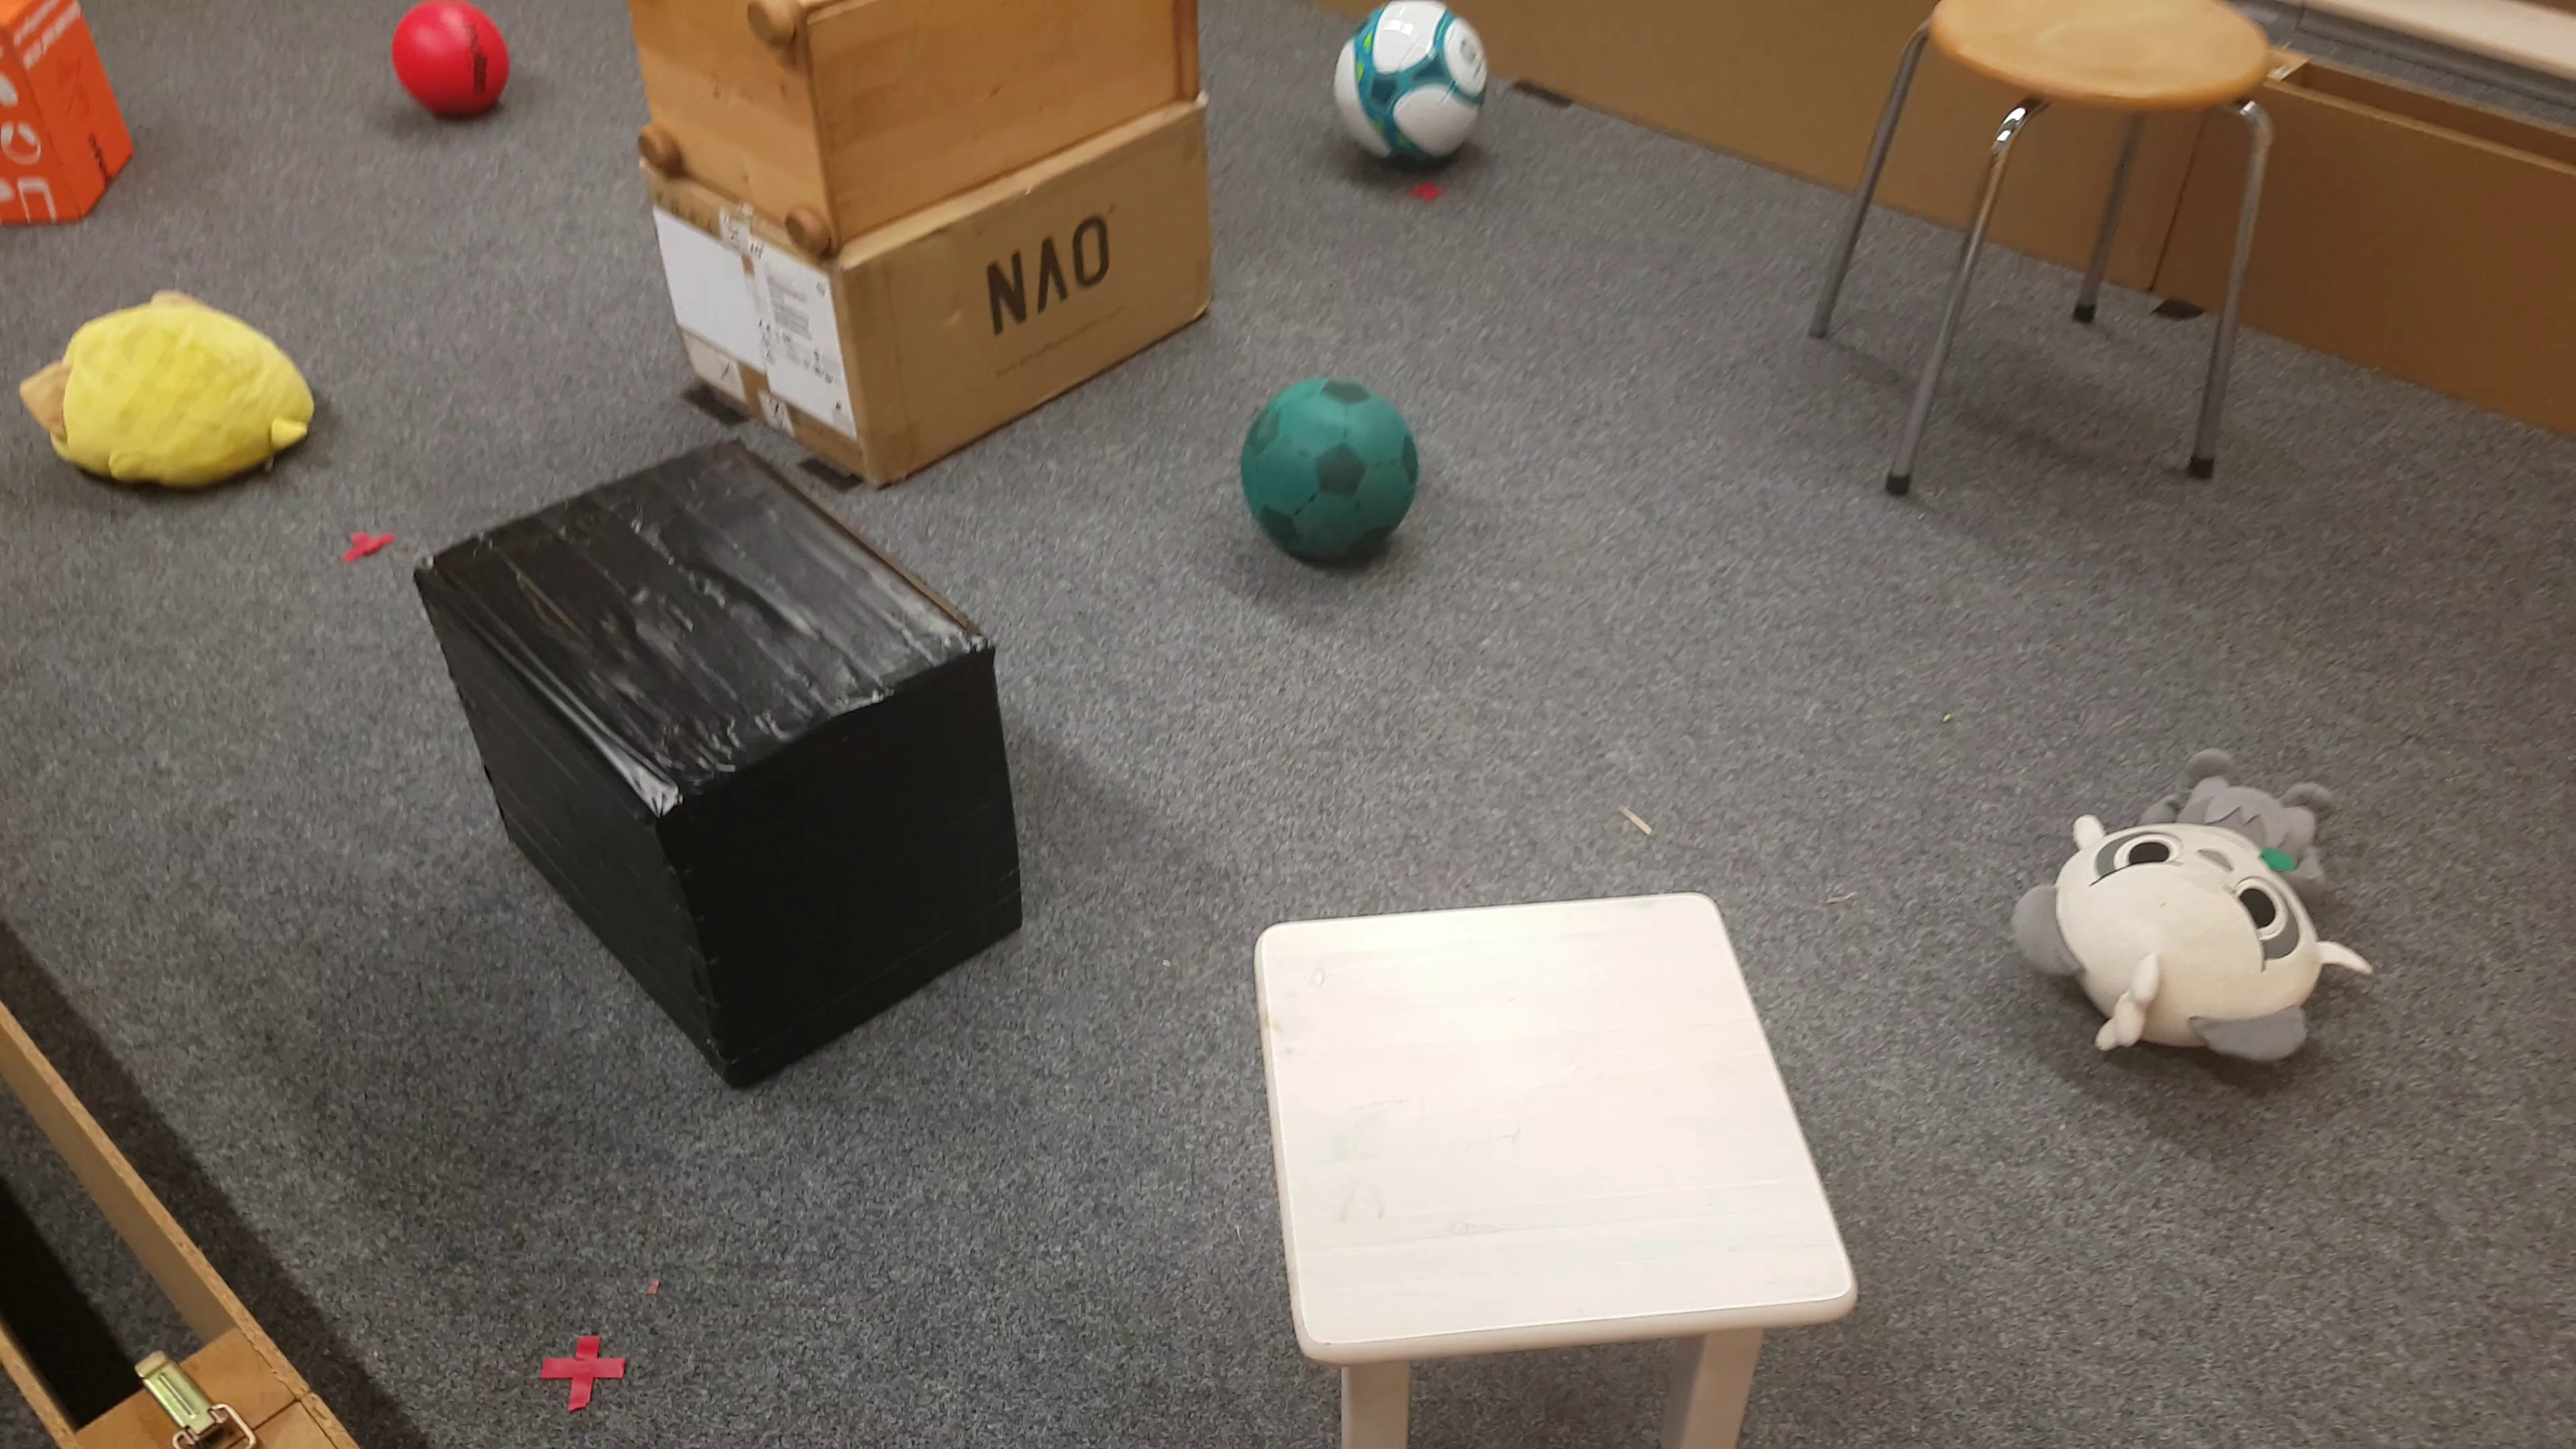grasp: (1978, 747, 2373, 1099), (11, 278, 320, 502)
kick: (1246, 366, 1424, 582), (1341, 0, 1495, 195), (377, 4, 518, 126)
push: (414, 433, 1030, 1090), (11, 0, 145, 239)
